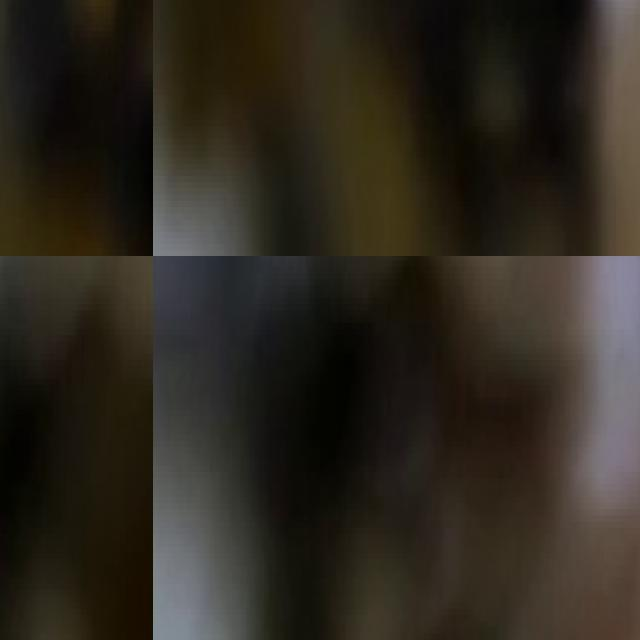fish: (153, 0, 620, 256), (0, 0, 153, 256)
